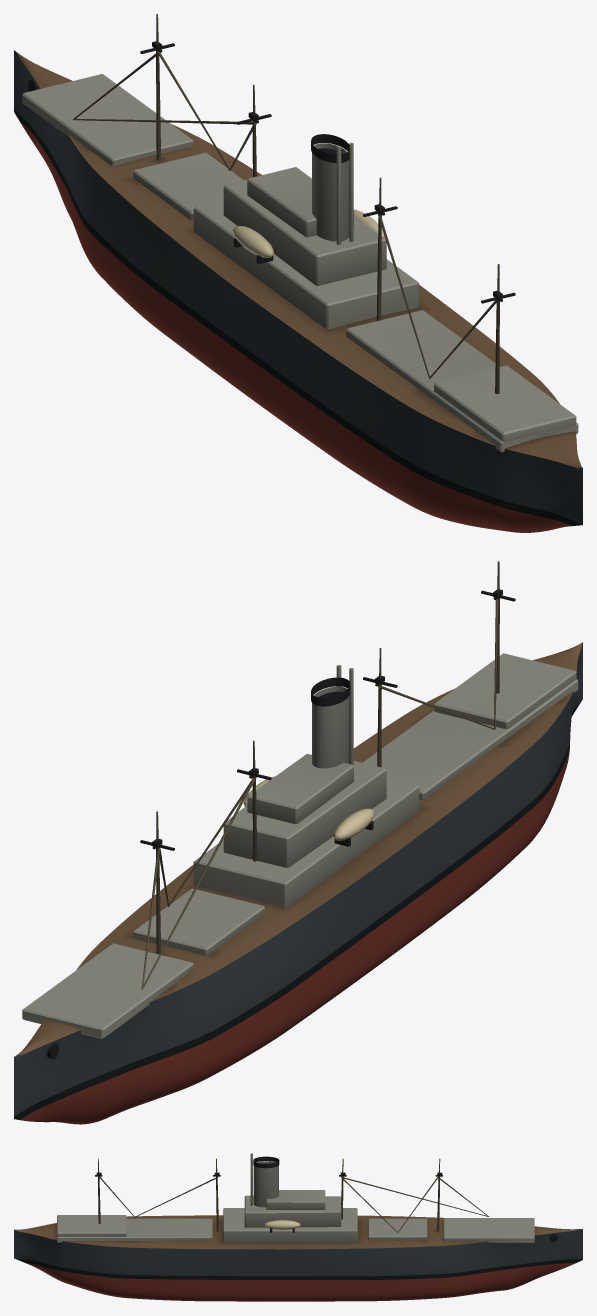
File: ss-bretwalda.glb
The picture shows the model from 3 angles, top to bottom: view 1: azimuth 30°, elevation 25°; view 2: azimuth 150°, elevation 25°; view 3: azimuth 270°, elevation 25°; orthographic projection. The views are drawn at different scales.
Visible parts, largest first — view 1: ss-bretwalda; view 2: ss-bretwalda; view 3: ss-bretwalda.
Boxes of the visible parts, left/top/right/bottom form: ss-bretwalda: left=14, top=14, right=582, bottom=532; ss-bretwalda: left=14, top=561, right=582, bottom=1124; ss-bretwalda: left=14, top=1153, right=582, bottom=1301.
Size of the model in its own units: 15.2 by 27.52 by 106.
